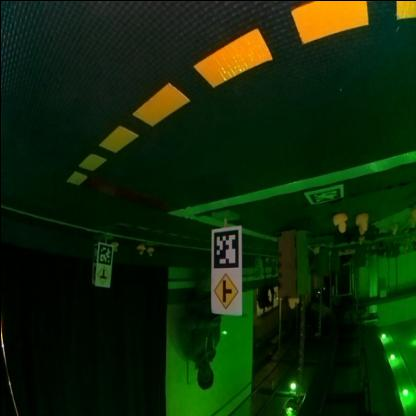Duckie: (332, 214, 346, 232), (355, 213, 367, 231), (286, 297, 298, 309), (135, 244, 144, 254), (111, 241, 117, 251), (146, 248, 152, 256)
Intersection sign: (210, 272, 238, 311), (94, 266, 110, 285)
QR code: (210, 230, 238, 270), (304, 184, 341, 204), (96, 245, 110, 266)
